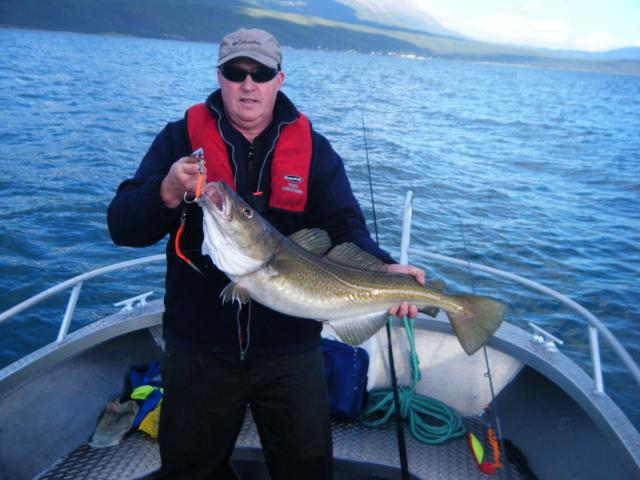fish: (161, 147, 520, 377)
